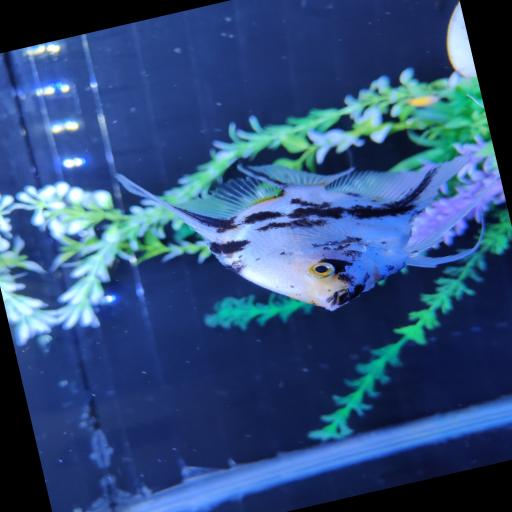Fish: (117, 155, 481, 309)
